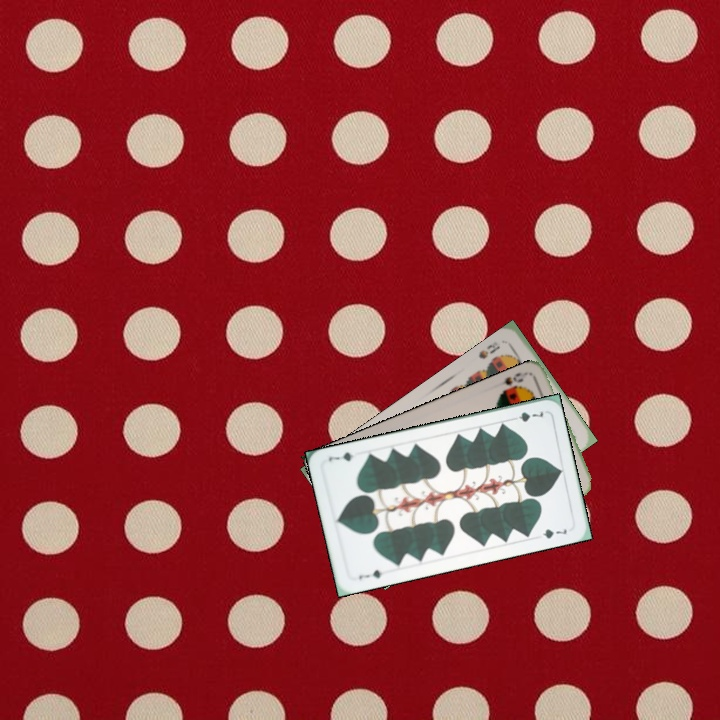G7: (506, 407, 547, 424), (355, 566, 385, 582)
S8: (474, 337, 502, 362)
SO: (492, 368, 531, 397)
